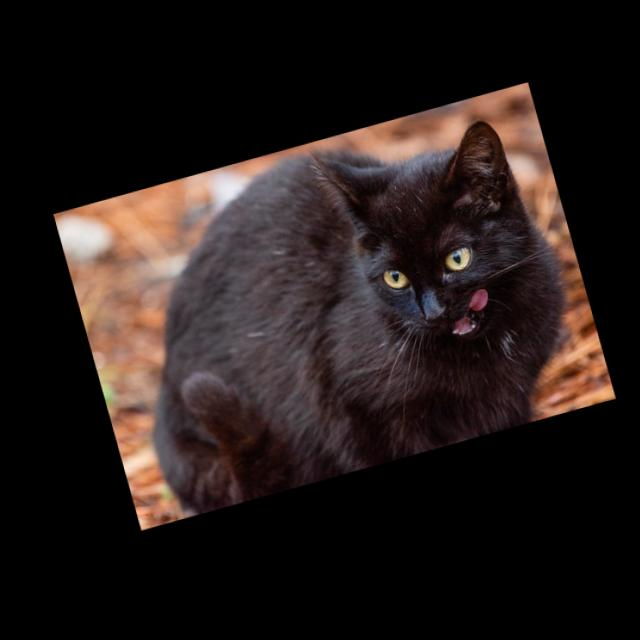animals: (83, 98, 595, 525)
